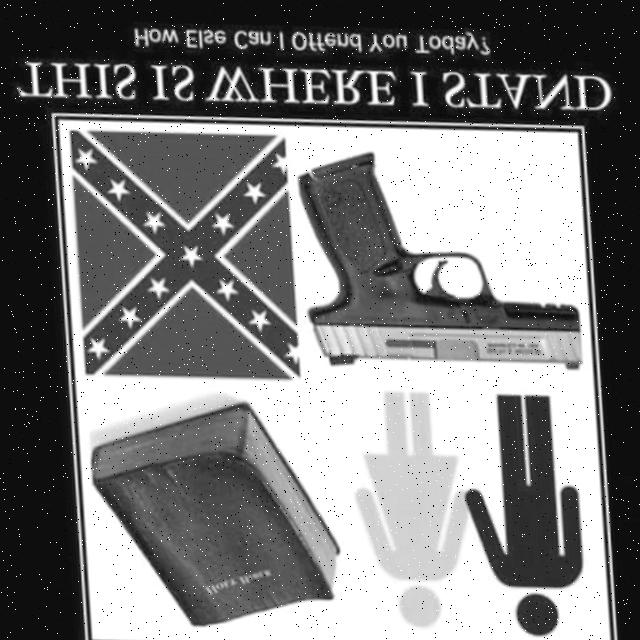pistol: (288, 133, 584, 377)
